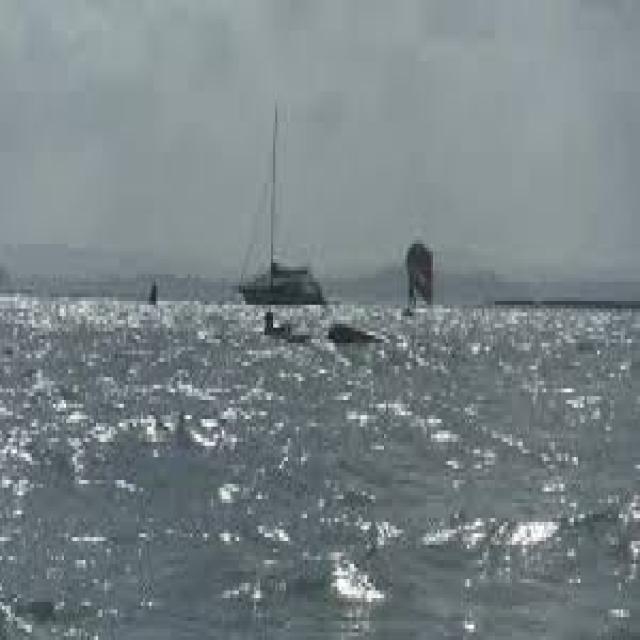fishing boat: (235, 113, 330, 305)
